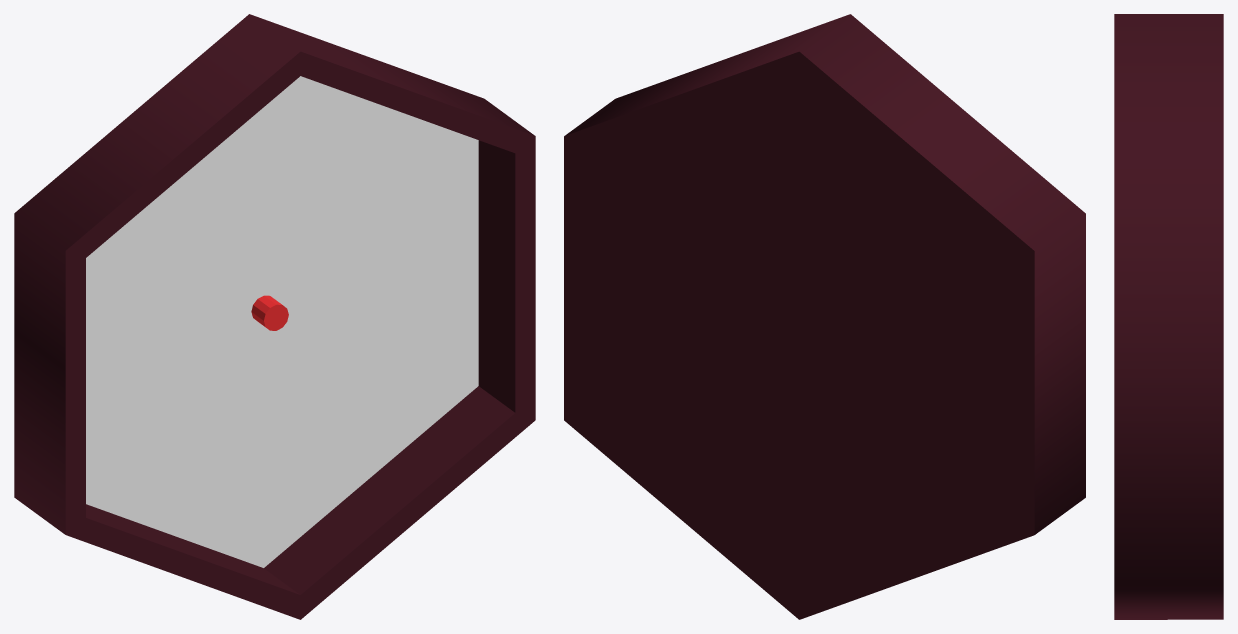
File: Itr_Obj_clock2_04.FBX
3 views of the same model, side by side, from view 1: azimuth 30°, elevation 25°; view 2: azimuth 150°, elevation 25°; view 3: azimuth 270°, elevation 25° (orthographic). The views are drawn at different scales.
Visible parts, largest first — view 1: Itr_Obj_clock2_04; view 2: Itr_Obj_clock2_04; view 3: Itr_Obj_clock2_04.
Boxes of the visible parts, x1=… form: Itr_Obj_clock2_04: x1=14, y1=14, x2=535, y2=619; Itr_Obj_clock2_04: x1=564, y1=14, x2=1085, y2=619; Itr_Obj_clock2_04: x1=1114, y1=14, x2=1223, y2=619.
Size of the model in its own units: 10.59 by 12.23 by 2.
